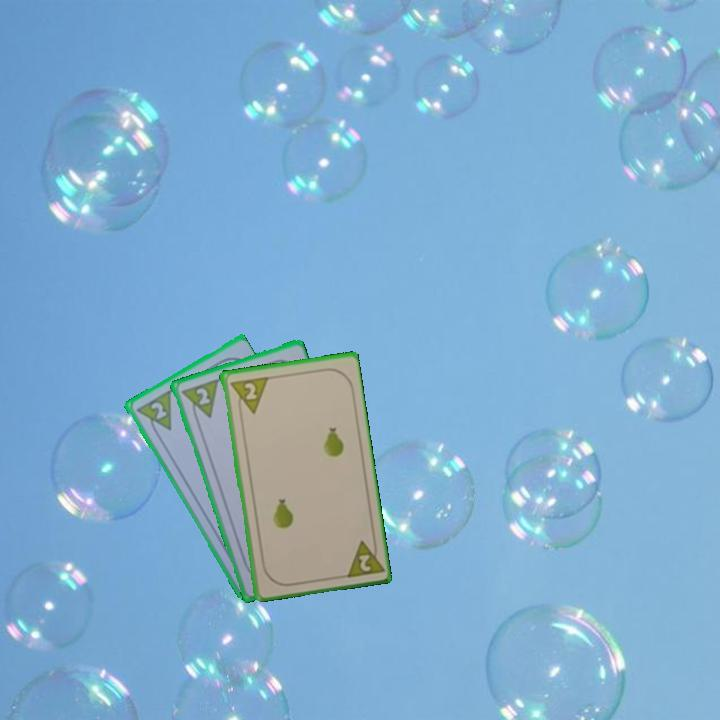2p: (177, 375, 221, 425), (340, 534, 385, 580), (226, 373, 270, 418), (146, 398, 169, 422)
